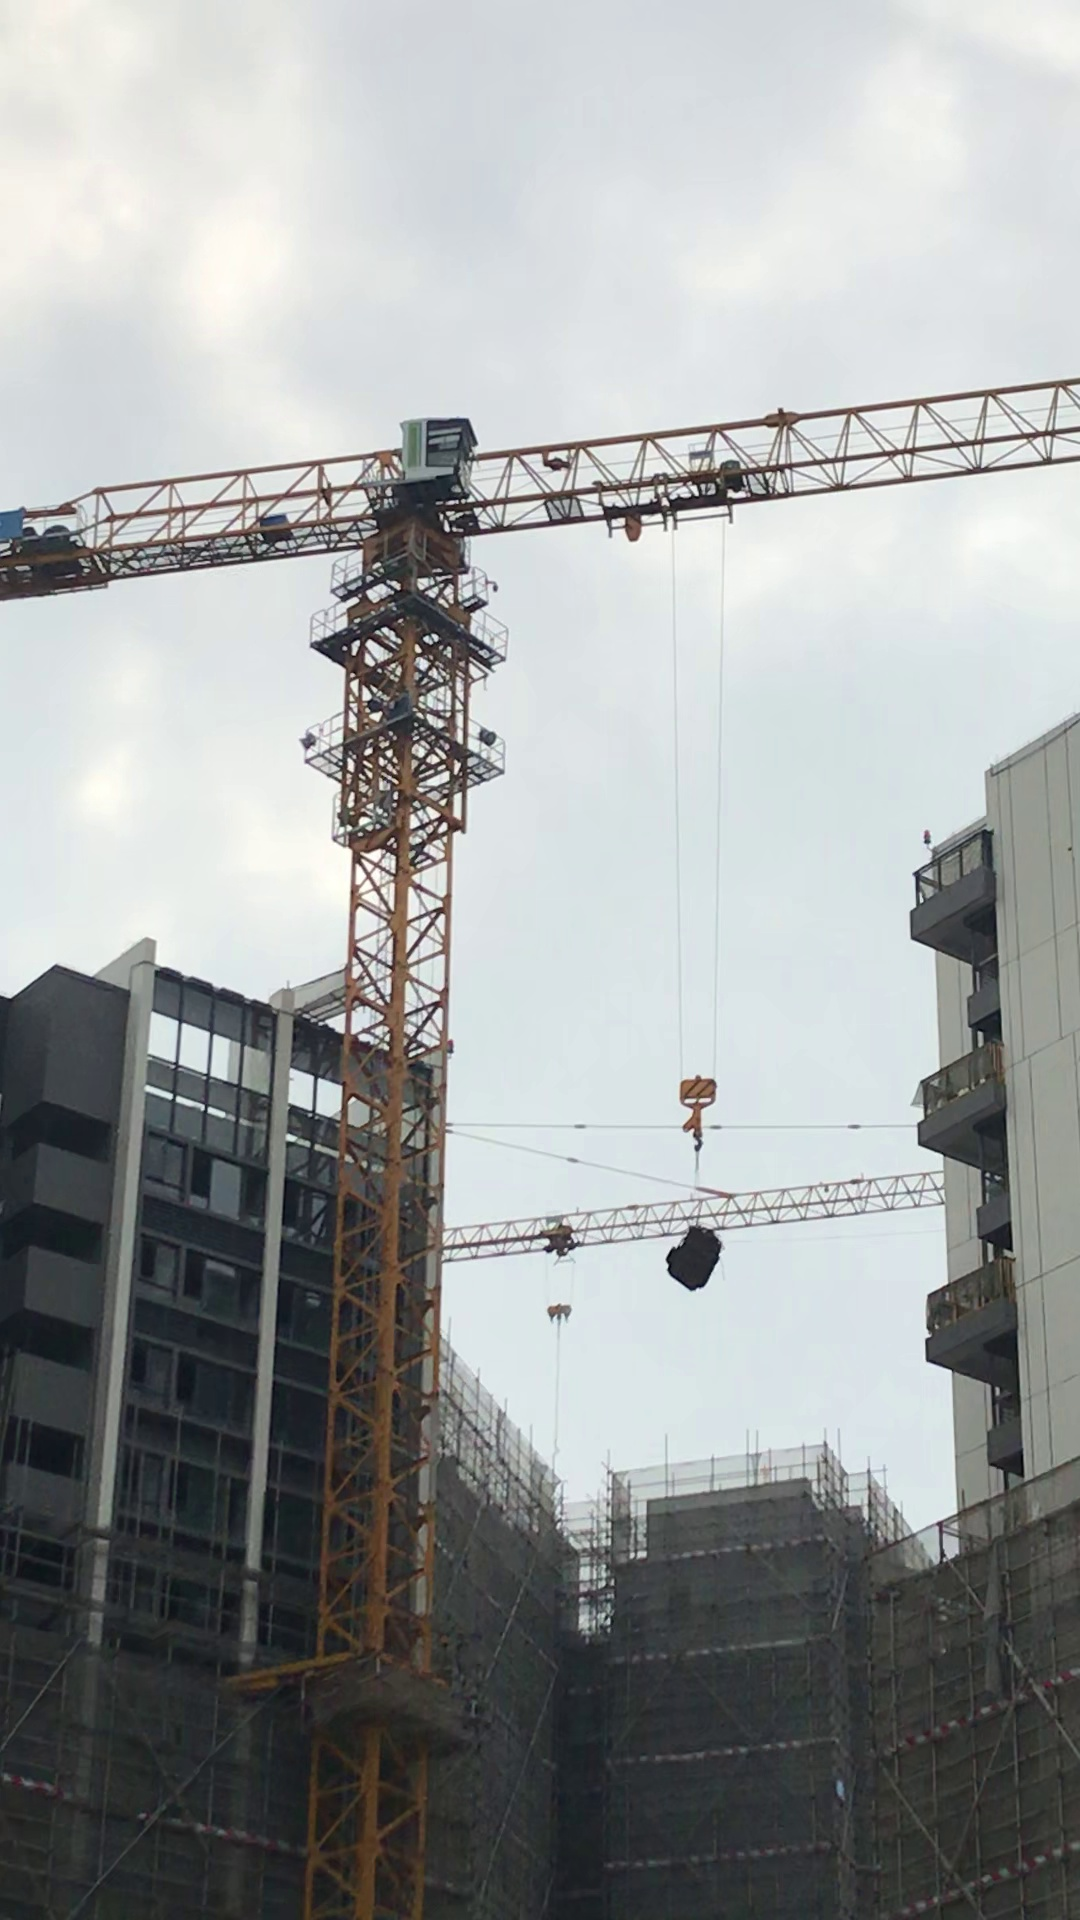hook: (670, 1063, 741, 1151), (543, 1300, 574, 1328)
